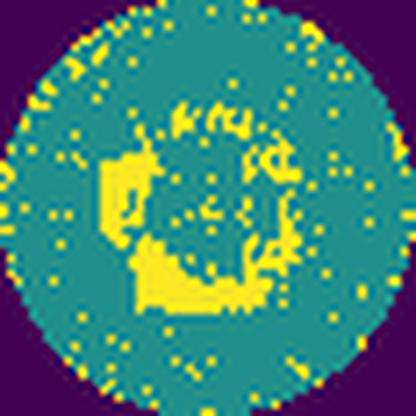Donut: (88, 94, 322, 325)
